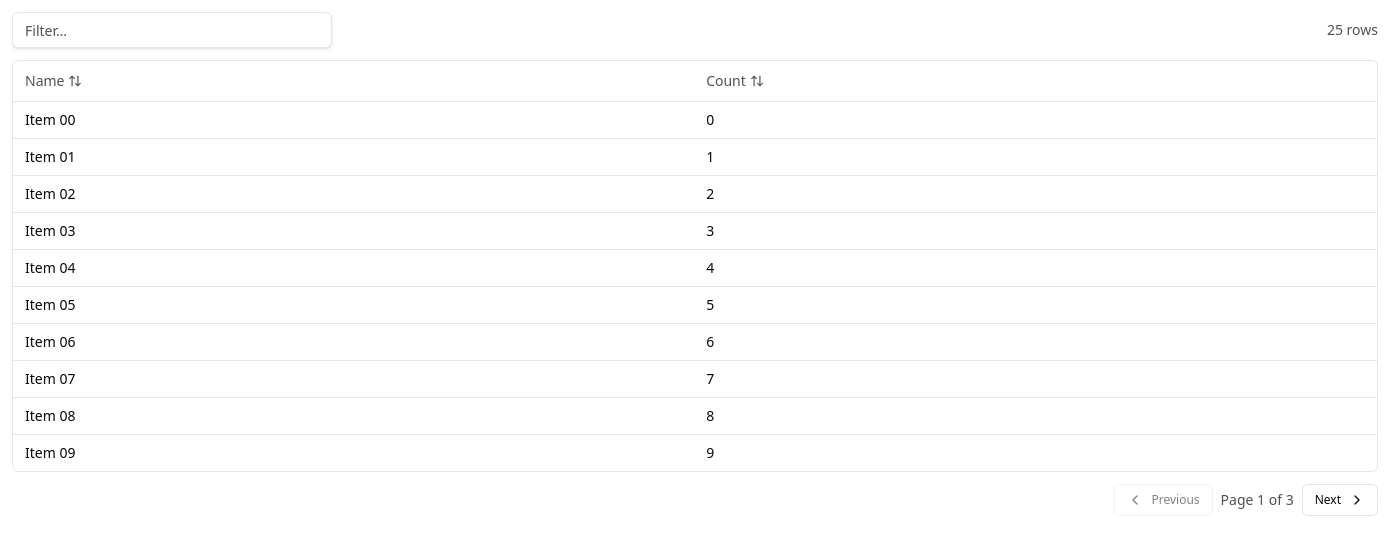
Test case: DataTable › paginates with next/previous controls
The width and height of the screenshot is (1390, 537).
Check: the text "Page 1 of 3" is shown, box [1221,490,1294,510]
Click the button with aria-label "next page": (1340, 500) [1302,484,1378,516]
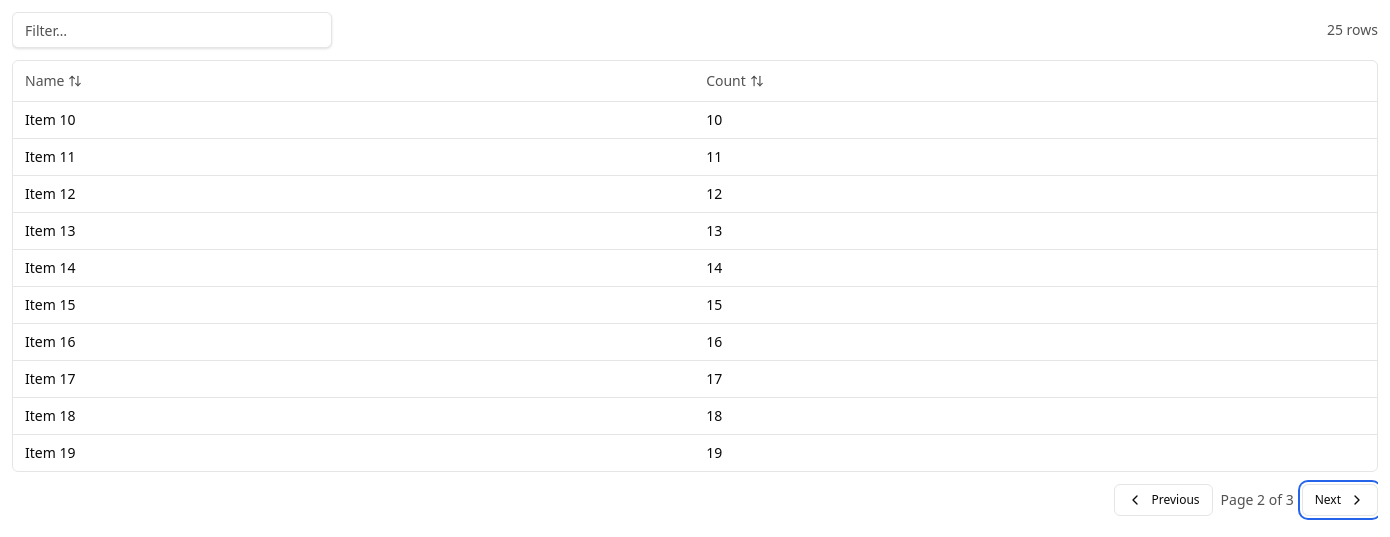
Check: the text "Page 2 of 3" is shown, box [1221,490,1294,510]
Click the button with aria-label "previous page": (1163, 500) [1114,484,1212,516]
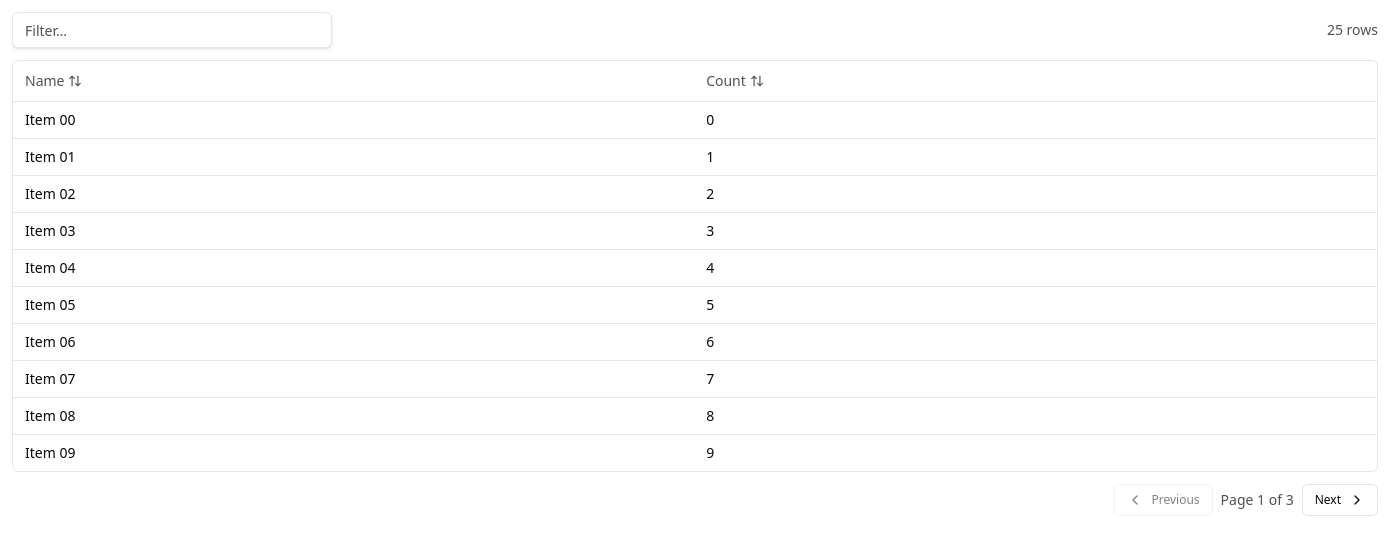
Check: the text "Page 1 of 3" is shown, box [1221,490,1294,510]
